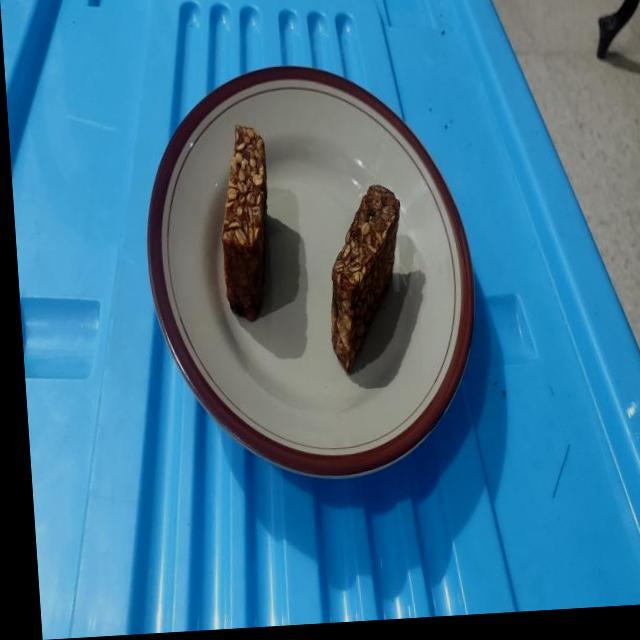tempe_goreng: (332, 186, 399, 372), (222, 124, 267, 320)
